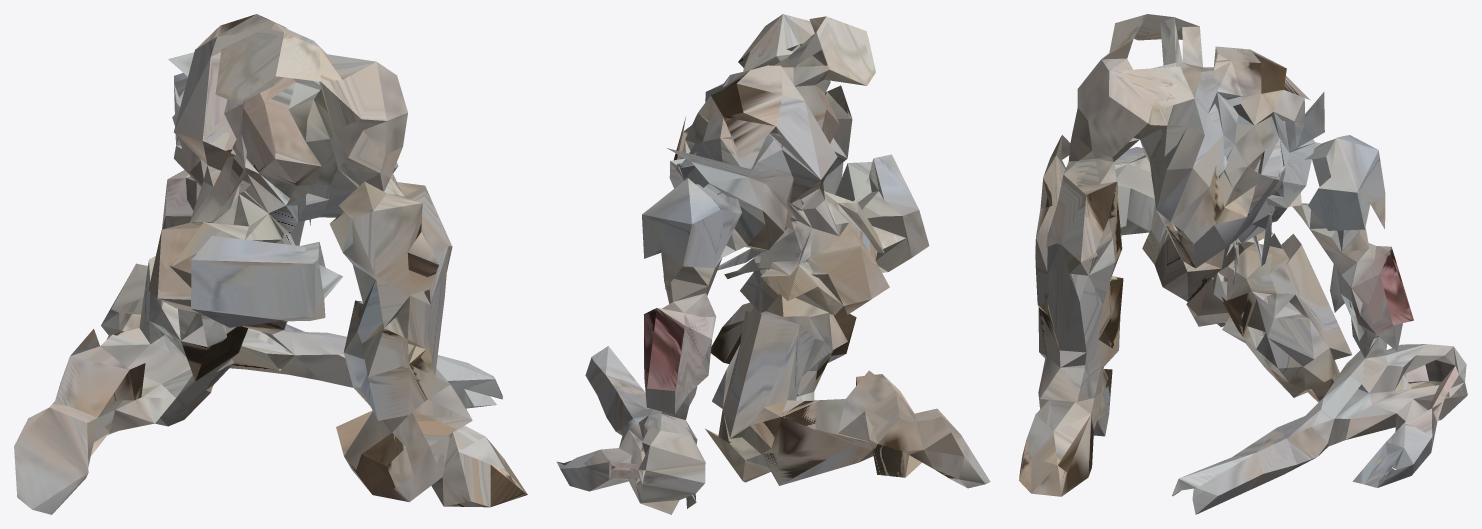
3 renders of one model, left to right at view 1: azimuth 30°, elevation 25°; view 2: azimuth 150°, elevation 25°; view 3: azimuth 270°, elevation 25°, orthographic. The views are drawn at different scales.
Parts seen in each view (by area): view 1: k01; view 2: k01; view 3: k01.
Part boxes in pixels (x1=…): k01: x1=14, y1=14, x2=527, y2=514; k01: x1=557, y1=14, x2=990, y2=514; k01: x1=1019, y1=14, x2=1467, y2=514.
Size of the model in its own units: 22.81 by 21.57 by 21.69.
1 material, 1 textured.
